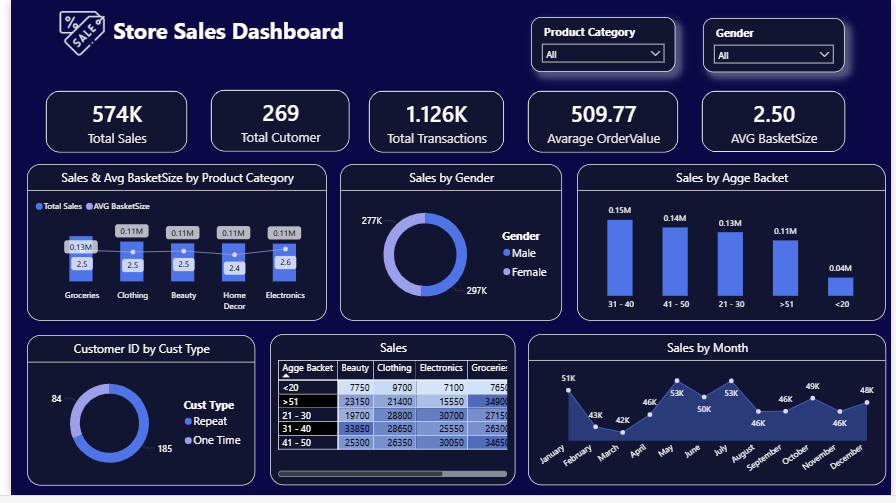

Layout of this report page (visuals, bound fields, positions):
{"tool":"powerbi","page":{"name":"Page 1","canvas":[1280,720],"ordinal":0},"visuals":[{"type":"textbox","box":[144.3,15.6,496.3,63.8],"z":0,"group":"g1"},{"type":"image","box":[34,15.6,139.9,65.2],"z":1000,"group":"g1"},{"type":"slicer","fields":{"Values":["retail_sales.Product Category"]},"box":[756.1,25.3,210,80],"z":1000},{"type":"cardVisual","fields":{"Data":["measure.Total Cutomer"]},"box":[273.5,113.4,236.7,124.7],"z":1000},{"type":"cardVisual","fields":{"Data":["measure.Total Transaction"]},"box":[503.1,114.8,231,124.7],"z":2000},{"type":"slicer","fields":{"Values":["retail_sales.Gender"]},"box":[1006.3,25.5,205.5,79.4],"z":3000},{"type":"cardVisual","fields":{"Data":["measure.Avarage OrderValue"]},"box":[734.2,114.8,253.7,124.7],"z":3000},{"type":"lineClusteredColumnComboChart","title":" Sales & Avg BasketSize by Product Category","fields":{"Category":["retail_sales.Product Category"],"Y":["measure.Total Sales"],"Y2":["measure.AVG BasketSize"]},"box":[23.8,238.1,436.1,227.7],"z":4000},{"type":"donutChart","title":"Sales by Gender","fields":{"Y":["measure.Total Sales"],"Category":["retail_sales.Gender"]},"box":[479.3,238.1,323,227.7],"z":5000},{"type":"columnChart","title":" Sales by Agge Backet","fields":{"Category":["retail_sales.Agge Backet"],"Y":["measure.Total Sales"]},"box":[823.1,238.1,449.5,227.7],"z":6000},{"type":"donutChart","title":"Customer ID by Cust Type","fields":{"Category":["Cutomer Type.Cust Type"],"Y":["Count(Cutomer Type.Customer ID)"]},"box":[23.8,486.7,331.9,218.8],"z":7000},{"type":"pivotTable","title":"Sales","fields":{"Rows":["retail_sales.Agge Backet"],"Columns":["retail_sales.Product Category"],"Values":["measure.Total Sales"]},"box":[376.6,485.2,357.2,220.3],"z":8000},{"type":"lineChart","title":" Sales by Month","fields":{"Y":["measure.Total Sales"],"Category":["retail_sales.Date.Variation.Date Hierarchy.Month"]},"box":[751.6,485.2,520.9,220.3],"z":9000},{"type":"cardVisual","fields":{"Data":["measure.Total Sales"]},"box":[34,114.8,240.9,124.7],"z":10000},{"type":"cardVisual","fields":{"Data":["measure.AVG BasketSize"]},"box":[987.9,114.8,243.8,123.3],"z":11000},{"type":"group","id":"g1","title":"Group 1","box":[34,15.6,606.6,65.2],"z":12000}]}

Visuals, with their boxes in screenshot pixels (x1, y1, x2, y2), scaled from the page's 1280x720 canvas onto the 896x503 screenshot:
textbox: box=[101, 11, 448, 55]
image: box=[24, 11, 122, 56]
slicer - retail_sales.Product Category: box=[529, 18, 676, 74]
cardVisual - measure.Total Cutomer: box=[191, 79, 357, 166]
cardVisual - measure.Total Transaction: box=[352, 80, 514, 167]
slicer - retail_sales.Gender: box=[704, 18, 848, 73]
cardVisual - measure.Avarage OrderValue: box=[514, 80, 692, 167]
" Sales & Avg BasketSize by Product Category" lineClusteredColumnComboChart: box=[17, 166, 322, 325]
"Sales by Gender" donutChart: box=[336, 166, 562, 325]
" Sales by Agge Backet" columnChart: box=[576, 166, 891, 325]
"Customer ID by Cust Type" donutChart: box=[17, 340, 249, 493]
"Sales" pivotTable: box=[264, 339, 514, 493]
" Sales by Month" lineChart: box=[526, 339, 891, 493]
cardVisual - measure.Total Sales: box=[24, 80, 192, 167]
cardVisual - measure.AVG BasketSize: box=[692, 80, 862, 166]
"Group 1" group: box=[24, 11, 448, 56]
